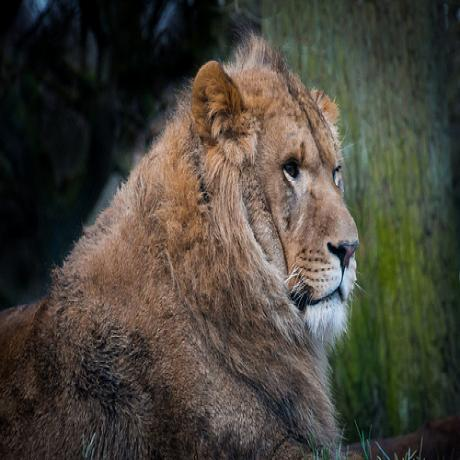Lion: (0, 35, 361, 460)
